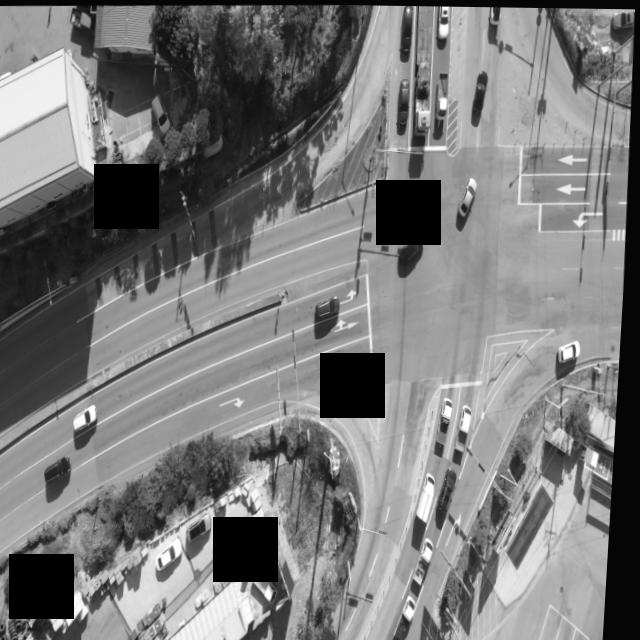car: (160, 535, 191, 575), (443, 468, 465, 514), (400, 231, 426, 269), (150, 95, 172, 137), (472, 68, 490, 118), (48, 452, 76, 483), (462, 177, 480, 218), (78, 405, 103, 432), (318, 295, 344, 320), (400, 79, 413, 129), (193, 516, 216, 543), (401, 5, 414, 52), (560, 339, 584, 363), (438, 5, 451, 39), (611, 9, 634, 27), (490, 6, 499, 25)
large_truck: (409, 5, 437, 134)
small_truck: (418, 470, 443, 524), (441, 397, 461, 458), (256, 565, 286, 604), (402, 594, 425, 640), (419, 537, 440, 583), (460, 403, 479, 453), (435, 70, 449, 116), (68, 6, 94, 30)
